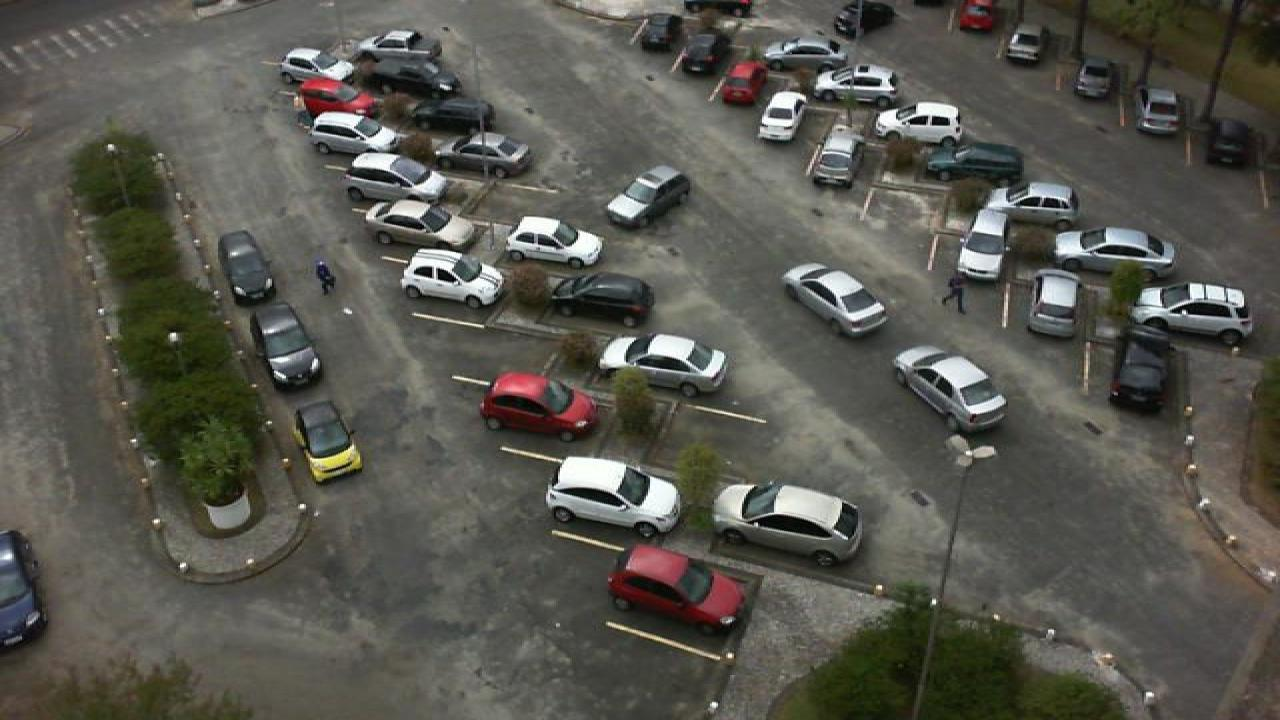Car: (604, 542, 752, 636), (710, 479, 864, 567), (544, 454, 686, 540), (890, 344, 1008, 433), (596, 331, 730, 397), (478, 370, 600, 442), (782, 261, 890, 339), (1130, 282, 1258, 346), (396, 248, 506, 310), (360, 197, 478, 252), (248, 303, 324, 388), (1054, 225, 1178, 276), (1106, 323, 1176, 413), (602, 164, 692, 233), (0, 528, 50, 652), (338, 151, 450, 205), (294, 399, 364, 485), (500, 214, 606, 269), (552, 269, 654, 326), (428, 129, 532, 179), (304, 110, 406, 158), (918, 142, 1030, 185), (978, 180, 1080, 227), (214, 228, 276, 304), (872, 100, 970, 148), (1024, 268, 1084, 341), (360, 57, 464, 98), (956, 208, 1012, 281), (806, 62, 902, 103), (294, 76, 378, 120), (408, 96, 490, 138), (276, 46, 362, 86), (806, 127, 860, 189), (352, 29, 446, 64), (760, 37, 848, 72), (1204, 115, 1258, 169), (754, 90, 806, 143), (1132, 86, 1184, 136), (718, 58, 770, 106), (832, 0, 896, 39), (678, 30, 724, 76), (1000, 24, 1046, 65), (1072, 54, 1114, 98), (636, 11, 678, 53), (954, 0, 1000, 34)
